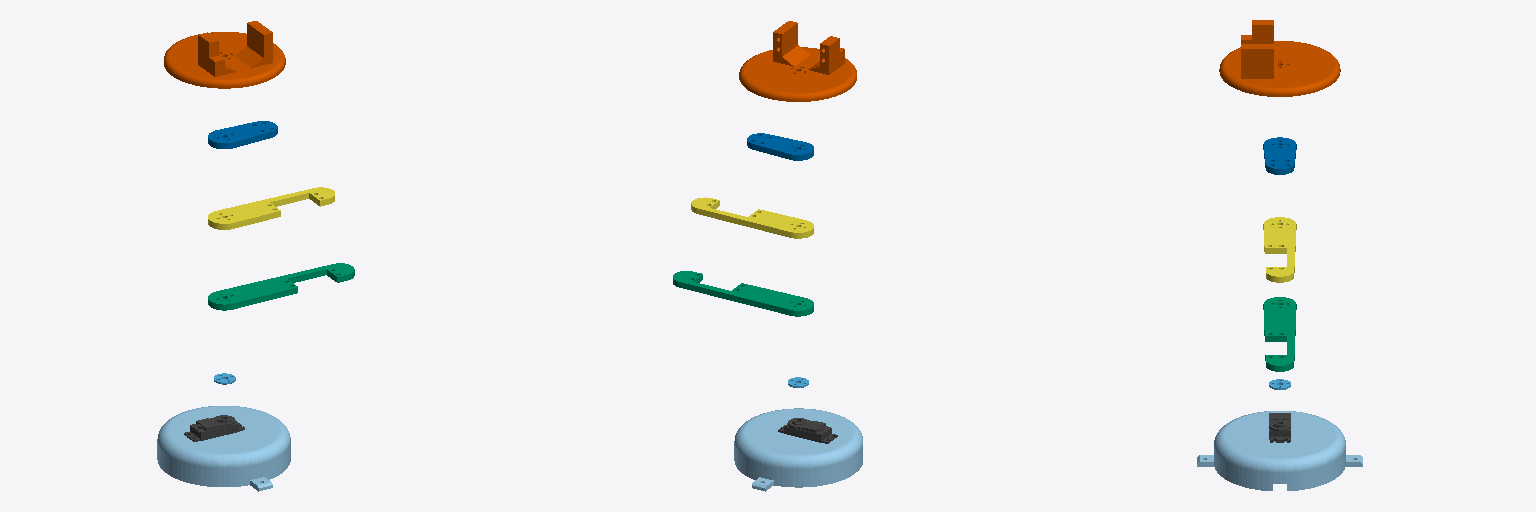
The robot description file, URDF, robot "robot_arm_description":
<?xml version="1.0" ?>
<!-- Generated using onshape-to-robot -->
<!-- Onshape document_id: a60c130b936cc49845e64be8 / workspace_id: 5dd6517471cd705938c34336 -->
<robot name="robot_arm_description">
  <!-- Link base -->
  <link name="base">
    <inertial>
      <origin xyz="-0.00276498 2.36186e-05 0.0191522" rpy="0 0 0"/>
      <mass value="0.166326"/>
      <inertia ixx="0.000179416" ixy="3.0512e-08" ixz="-8.17984e-07" iyy="0.000170528" iyz="-2.807e-09" izz="0.000321583"/>
    </inertial>
    <!-- Part base -->
    <visual>
      <origin xyz="-0.000621801 0 0.0285404" rpy="0 -0 0"/>
      <geometry>
        <mesh filename="package://robot_arm_description/meshes/base.stl"/>
      </geometry>
      <material name="base_material">
        <color rgba="0.615686 0.811765 0.929412 1"/>
      </material>
    </visual>
    <collision>
      <origin xyz="-0.000621801 0 0.0285404" rpy="0 -0 0"/>
      <geometry>
        <mesh filename="package://robot_arm_description/meshes/base.stl"/>
      </geometry>
    </collision>
    <!-- Part servo1 -->
    <visual>
      <origin xyz="0.0097773 0.0001 0.000546342" rpy="1.5708 0 3.14159"/>
      <geometry>
        <mesh filename="package://robot_arm_description/meshes/servo1.stl"/>
      </geometry>
      <material name="servo1_material">
        <color rgba="0.301961 0.301961 0.301961 1"/>
      </material>
    </visual>
    <collision>
      <origin xyz="0.0097773 0.0001 0.000546342" rpy="1.5708 0 3.14159"/>
      <geometry>
        <mesh filename="package://robot_arm_description/meshes/servo1.stl"/>
      </geometry>
    </collision>
  </link>

  <link name="joint">
    <visual>
      <origin xyz="0 0 0" rpy="0 0 0"/>
      <geometry>
        <mesh filename="package://robot_arm_description/meshes/joint.stl"/>
      </geometry>
    </visual>
    <collision>
      <origin xyz="0 0 0" rpy="0 0 0"/>
      <geometry>
        <mesh filename="package://robot_arm_description/meshes/joint.stl"/>
      </geometry>
    </collision>
  </link>

  <joint name="base_to_joint" type="fixed">
    <parent link="base"/>
    <child link="joint"/>
    <origin xyz="0 0 0.080" rpy="0 0 0"/>
  </joint>


  <link name="link1">
    <visual>
      <origin xyz="0 0 0" rpy="0 0 0"/>
      <geometry>
        <mesh filename="package://robot_arm_description/meshes/link1.stl"/>
      </geometry>
    </visual>
    <collision>
      <origin xyz="0 0 0" rpy="0 0 0"/>
      <geometry>
        <mesh filename="package://robot_arm_description/meshes/link1.stl"/>
      </geometry>
    </collision>
  </link>

  <joint name="base_to_link1" type="fixed">
    <parent link="base"/>
    <child link="link1"/>
    <origin xyz="0 0 0.160" rpy="0 0 0"/>
  </joint>


  <link name="link2">
    <visual>
      <origin xyz="0 0 0" rpy="0 0 0"/>
      <geometry>
        <mesh filename="package://robot_arm_description/meshes/link2.stl"/>
      </geometry>
    </visual>
    <collision>
      <origin xyz="0 0 0" rpy="0 0 0"/>
      <geometry>
        <mesh filename="package://robot_arm_description/meshes/link2.stl"/>
      </geometry>
    </collision>
  </link>

  <joint name="base_to_link2" type="fixed">
    <parent link="base"/>
    <child link="link2"/>
    <origin xyz="0 0 0.240" rpy="0 0 0"/>
  </joint>


  <link name="link2__2">
    <visual>
      <origin xyz="0 0 0" rpy="0 0 0"/>
      <geometry>
        <mesh filename="package://robot_arm_description/meshes/link2__2.stl"/>
      </geometry>
    </visual>
    <collision>
      <origin xyz="0 0 0" rpy="0 0 0"/>
      <geometry>
        <mesh filename="package://robot_arm_description/meshes/link2__2.stl"/>
      </geometry>
    </collision>
  </link>

  <joint name="base_to_link2__2" type="fixed">
    <parent link="base"/>
    <child link="link2__2"/>
    <origin xyz="0 0 0.320" rpy="0 0 0"/>
  </joint>


  <link name="rotate_base">
    <visual>
      <origin xyz="0 0 0" rpy="0 0 0"/>
      <geometry>
        <mesh filename="package://robot_arm_description/meshes/rotate_base.stl"/>
      </geometry>
    </visual>
    <collision>
      <origin xyz="0 0 0" rpy="0 0 0"/>
      <geometry>
        <mesh filename="package://robot_arm_description/meshes/rotate_base.stl"/>
      </geometry>
    </collision>
  </link>

  <joint name="base_to_rotate_base" type="fixed">
    <parent link="base"/>
    <child link="rotate_base"/>
    <origin xyz="0 0 0.400" rpy="0 0 0"/>
  </joint>

</robot>

--- What the picture shows (computed from the rendered views, not written in the file) ---
Views: 3 orthographic renders of the robot side by side, from view 1: azimuth 30°, elevation 25°; view 2: azimuth 150°, elevation 25°; view 3: azimuth 270°, elevation 25°.
Model robot_arm_description with 6 links and 5 joints (5 fixed), rooted at base, posed every joint at zero.
Visible links, largest first — view 1: base, rotate_base, link1, link2, link2__2; view 2: base, rotate_base, link1, link2, link2__2; view 3: base, rotate_base, link1, link2, link2__2.
Boxes of the visible links, bbox=[...] form: base: bbox=[157, 406, 290, 491]; rotate_base: bbox=[164, 21, 285, 88]; link1: bbox=[208, 263, 354, 310]; link2: bbox=[208, 187, 334, 229]; link2__2: bbox=[208, 121, 277, 148]; base: bbox=[734, 408, 862, 491]; rotate_base: bbox=[739, 21, 856, 101]; link1: bbox=[673, 271, 813, 316]; link2: bbox=[691, 197, 813, 238]; link2__2: bbox=[747, 133, 813, 160]; base: bbox=[1197, 411, 1362, 490]; rotate_base: bbox=[1219, 20, 1340, 96]; link1: bbox=[1263, 297, 1296, 371]; link2: bbox=[1263, 217, 1296, 282]; link2__2: bbox=[1263, 137, 1296, 174].
Size in the robot's own frame: 0.1936 by 0.15 by 0.4305 metres.
7 mesh visuals loaded from 7 distinct referenced files (7 binary STL).
